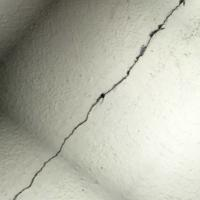crack: (8, 0, 186, 199)
